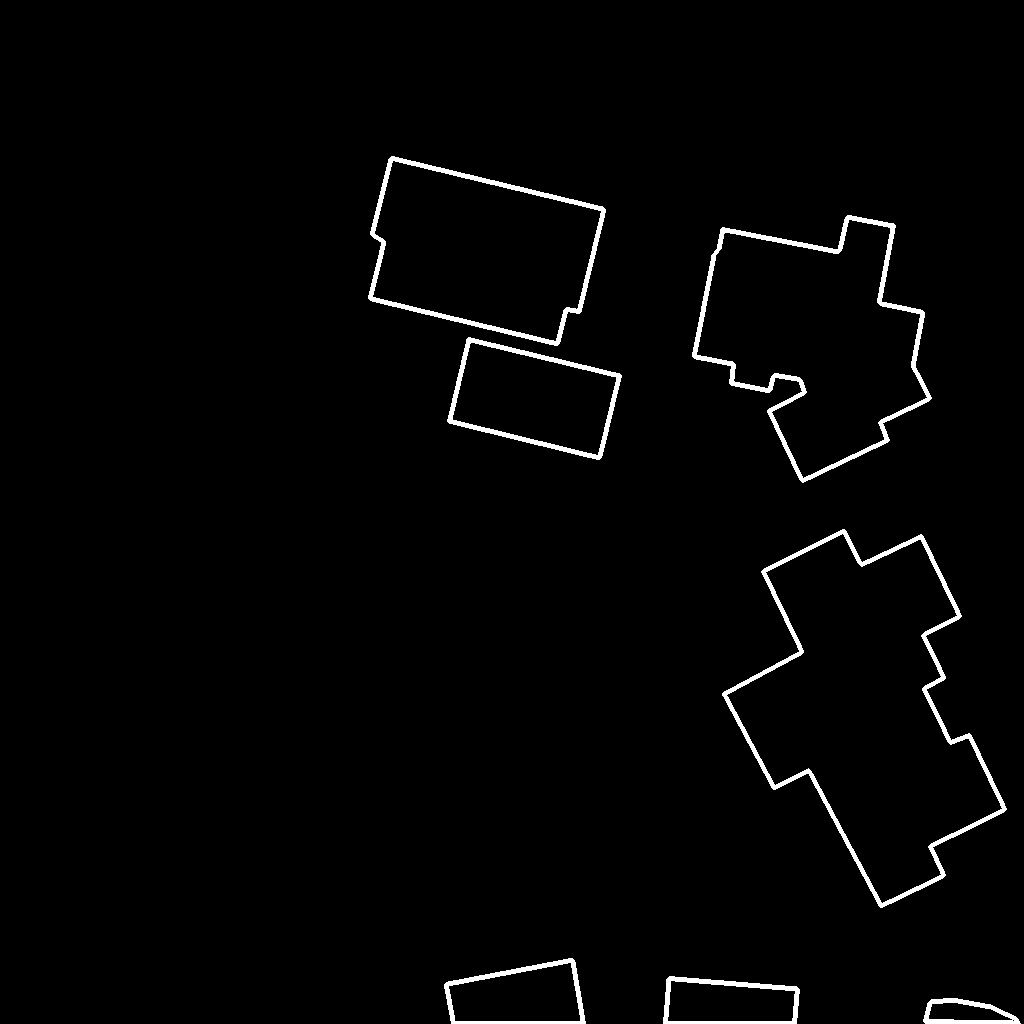building: (724, 531, 1006, 907), (694, 217, 931, 482), (370, 158, 605, 345), (449, 339, 621, 459), (446, 960, 585, 1024), (665, 978, 799, 1024), (925, 1000, 1020, 1024), (0, 641, 2, 648)
